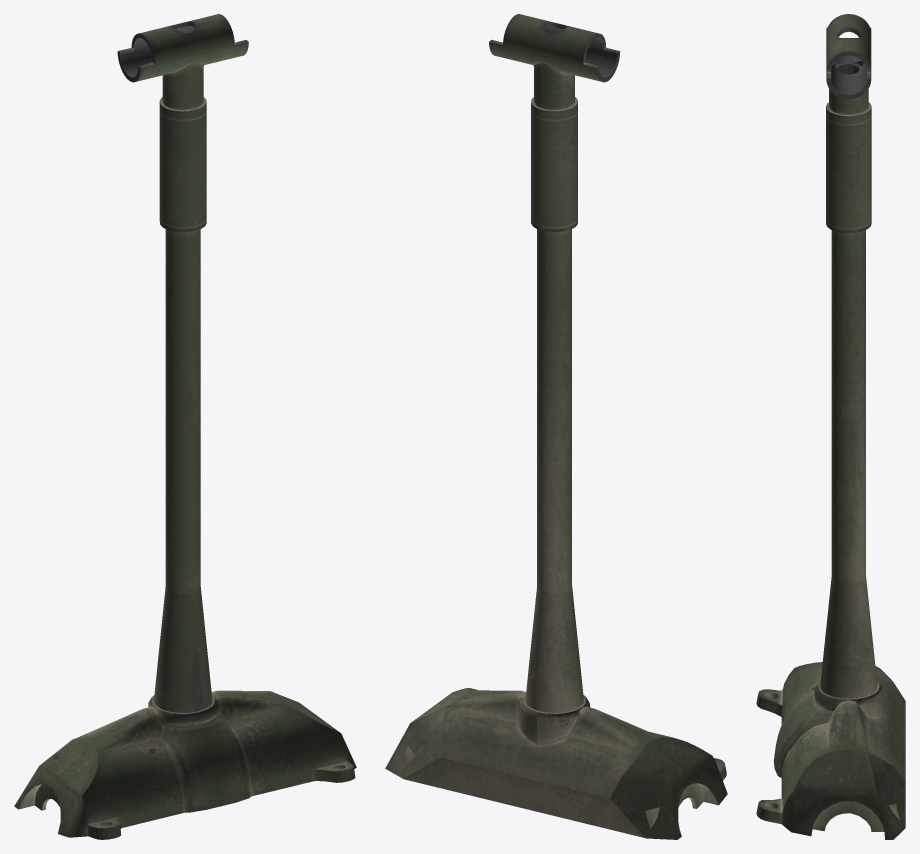
File: Gun_06.glb
3 views of the same model, side by side, from view 1: azimuth 30°, elevation 25°; view 2: azimuth 150°, elevation 25°; view 3: azimuth 270°, elevation 25° (orthographic). The views are drawn at different scales.
Parts seen in each view (by area): view 1: set_0_group_0; view 2: set_0_group_0; view 3: set_0_group_0.
Part boxes in pixels (x1=…): set_0_group_0: x1=14, y1=14, x2=356, y2=839; set_0_group_0: x1=385, y1=14, x2=727, y2=839; set_0_group_0: x1=756, y1=14, x2=905, y2=839.
Bounding box in the file's own units: 1.45 × 3.61 × 0.6615.
Materials: 1 (1 with a texture image).
